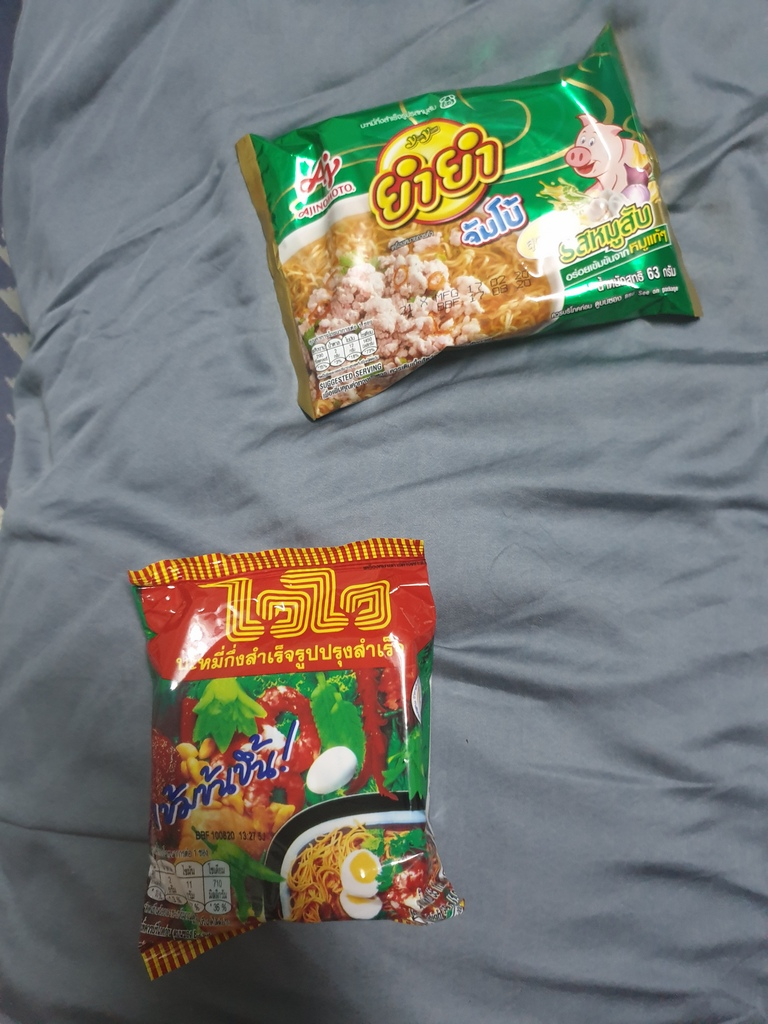waiwai: (122, 550, 459, 921)
yumyum: (234, 84, 702, 347)
